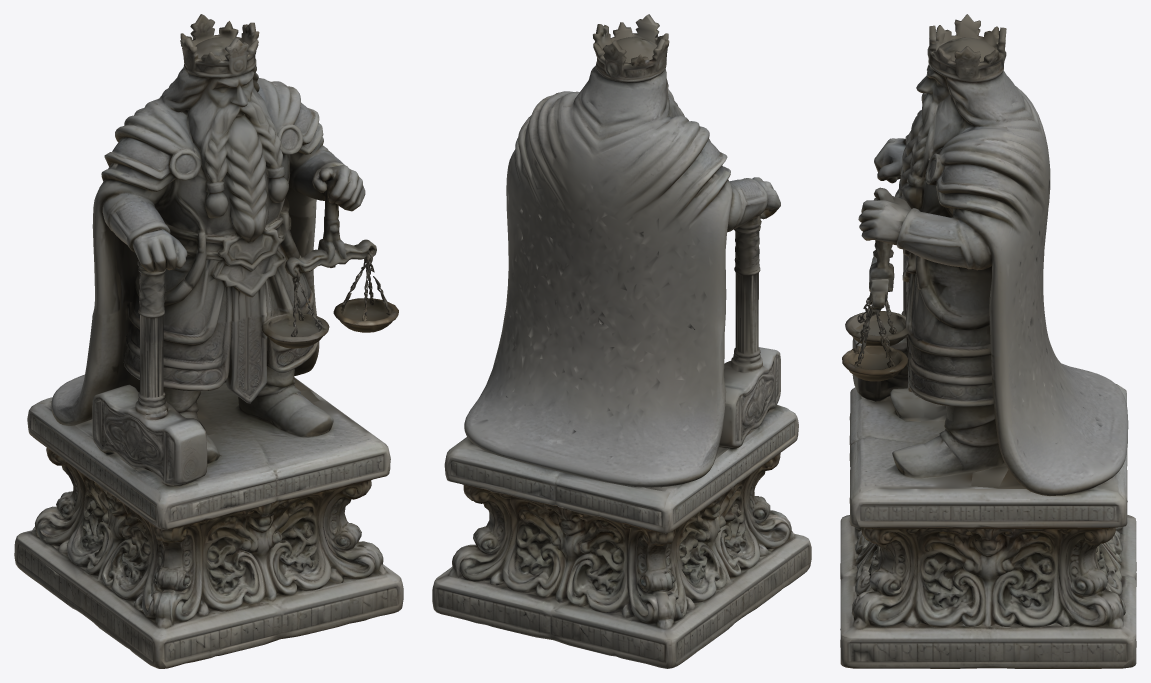
File: founder_statue_1024.glb
3 views of the same model, side by side, from view 1: azimuth 30°, elevation 25°; view 2: azimuth 150°, elevation 25°; view 3: azimuth 270°, elevation 25° (orthographic). The views are drawn at different scales.
Visible parts, largest first — view 1: node_0; view 2: node_0; view 3: node_0.
Part boxes in pixels (x1=…): node_0: x1=14, y1=14, x2=403, y2=668; node_0: x1=432, y1=14, x2=811, y2=668; node_0: x1=840, y1=14, x2=1136, y2=668.
Bounding box in the file's own units: 0.4729 × 1.01 × 0.4674.
1 material, 1 textured.
